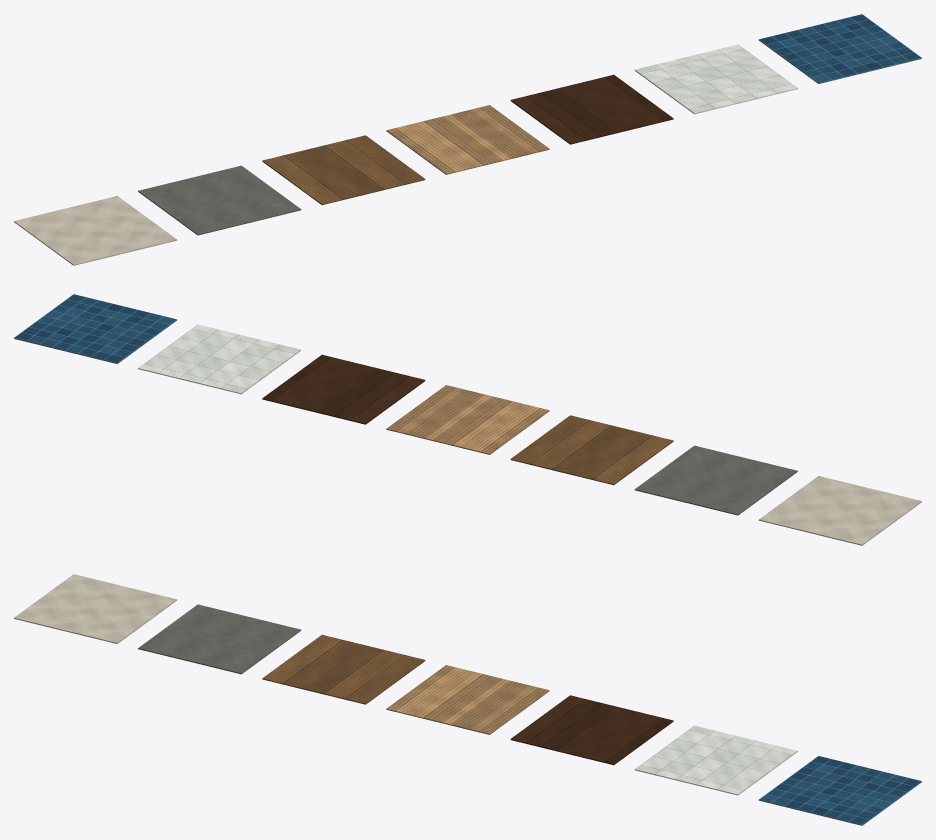
Rendered from surfaces.mobile.glb.
3 views of the same model, one above another, from view 1: azimuth 30°, elevation 25°; view 2: azimuth 150°, elevation 25°; view 3: azimuth 330°, elevation 25° (orthographic).
Parts seen in each view (by area): view 1: Surf_Concrete, Surf_TileWhite, Surf_CeilingWood, Surf_Hinoki, Surf_WoodDark, Surf_Plaster, Surf_TileBlue; view 2: Surf_Concrete, Surf_TileWhite, Surf_CeilingWood, Surf_Hinoki, Surf_WoodDark, Surf_Plaster, Surf_TileBlue; view 3: Surf_Concrete, Surf_TileWhite, Surf_CeilingWood, Surf_Hinoki, Surf_WoodDark, Surf_Plaster, Surf_TileBlue.
Boxes of the visible parts, bbox=[...] form: Surf_Concrete: bbox=[138, 165, 301, 235]; Surf_TileWhite: bbox=[634, 44, 797, 114]; Surf_CeilingWood: bbox=[262, 135, 425, 205]; Surf_Hinoki: bbox=[386, 105, 549, 174]; Surf_WoodDark: bbox=[510, 74, 673, 144]; Surf_Plaster: bbox=[14, 196, 177, 265]; Surf_TileBlue: bbox=[758, 14, 921, 83]; Surf_Concrete: bbox=[634, 445, 797, 515]; Surf_TileWhite: bbox=[138, 324, 301, 394]; Surf_CeilingWood: bbox=[510, 415, 673, 485]; Surf_Hinoki: bbox=[386, 385, 549, 454]; Surf_WoodDark: bbox=[262, 354, 425, 424]; Surf_Plaster: bbox=[758, 476, 921, 545]; Surf_TileBlue: bbox=[14, 294, 177, 363]; Surf_Concrete: bbox=[138, 604, 301, 674]; Surf_TileWhite: bbox=[634, 725, 797, 795]; Surf_CeilingWood: bbox=[262, 634, 425, 704]; Surf_Hinoki: bbox=[386, 665, 549, 734]; Surf_WoodDark: bbox=[510, 695, 673, 765]; Surf_Plaster: bbox=[14, 574, 177, 643]; Surf_TileBlue: bbox=[758, 756, 921, 825].
Size of the model in its own units: 8.2 by 0.01 by 1.
Materials: 7 (7 with a texture image).
